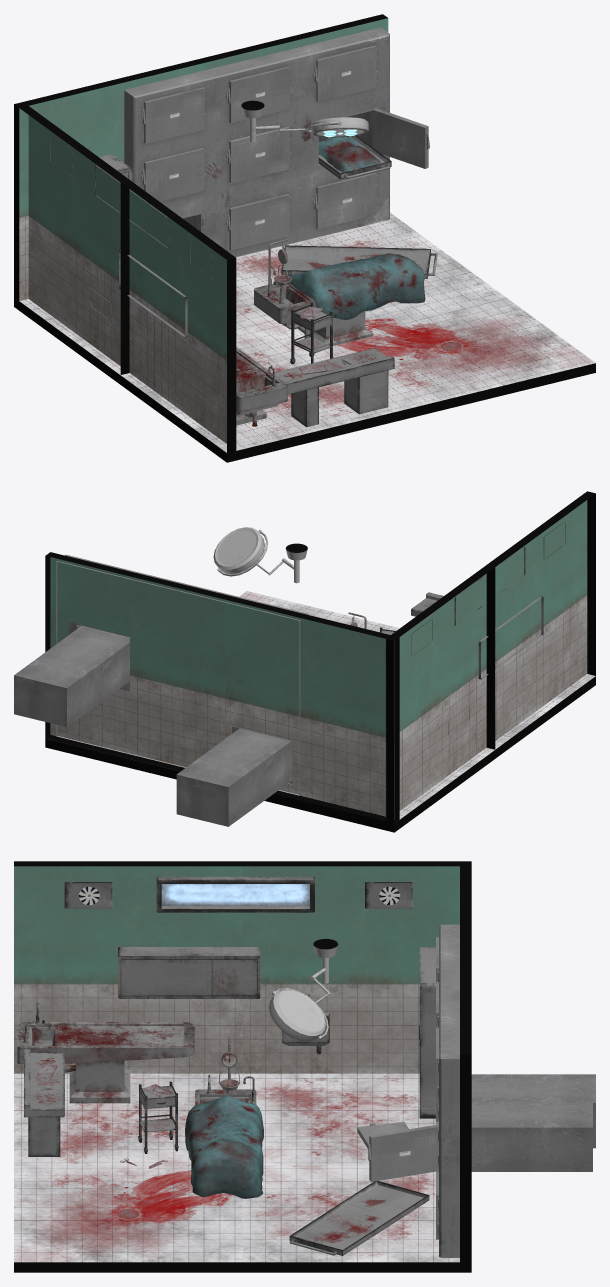
Rendered from morgue_room.glb.
The picture shows the model from 3 angles, top to bottom: view 1: azimuth 30°, elevation 25°; view 2: azimuth 150°, elevation 25°; view 3: azimuth 270°, elevation 25°; orthographic projection. The views are drawn at different scales.
Parts seen in each view (by area): view 1: Locker_2048, Wall1, Floor, Wall2, Floor4, Wall3, Floor2, Body, Bench, Floor3, AutopsyTable, AutopsyTable1 (+7 smaller); view 2: Wall3, Wall4, Wall1, Wall2, Locker_2048, Floor3, Surgical_Lamp, Floor4, Floor, Floor2, Wall_Asset; view 3: Wall2, Wall1, Locker_2048, Floor, Wall_Asset, Floor2, Floor3, Floor4, AutopsyTable1, Body, Body_Tray, Bench (+6 smaller).
Boxes of the visible parts, x1,y1,x2,y2 form: Locker_2048: [124, 27, 429, 257]; Wall1: [120, 180, 236, 452]; Floor: [333, 285, 595, 417]; Wall2: [19, 105, 129, 374]; Floor4: [120, 331, 411, 462]; Wall3: [14, 59, 203, 300]; Floor2: [236, 212, 488, 315]; Body: [290, 253, 425, 319]; Bench: [272, 348, 394, 427]; Floor3: [14, 280, 300, 384]; AutopsyTable: [254, 266, 373, 345]; AutopsyTable1: [236, 347, 287, 426]; Wall3: [220, 594, 399, 823]; Wall4: [45, 552, 224, 771]; Wall1: [486, 491, 595, 749]; Wall2: [385, 565, 495, 823]; Locker_2048: [14, 554, 308, 826]; Floor3: [264, 747, 495, 832]; Surgical_Lamp: [213, 527, 307, 583]; Floor4: [495, 674, 595, 758]; Floor: [239, 591, 399, 632]; Floor2: [45, 738, 180, 779]; Wall_Asset: [411, 521, 565, 679]; Wall2: [242, 861, 465, 1073]; Wall1: [14, 861, 242, 1073]; Locker_2048: [357, 924, 595, 1257]; Floor: [14, 1165, 242, 1272]; Wall_Asset: [64, 876, 412, 998]; Floor2: [242, 1165, 471, 1272]; Floor3: [242, 1073, 435, 1165]; Floor4: [14, 1073, 242, 1165]; AutopsyTable1: [17, 1002, 194, 1103]; Body: [185, 1095, 263, 1198]; Body_Tray: [289, 1181, 429, 1255]; Bench: [24, 1048, 64, 1156].
Size of the model in its own units: 8 by 4.33 by 10.18.
Materials: 7 (6 with a texture image).
